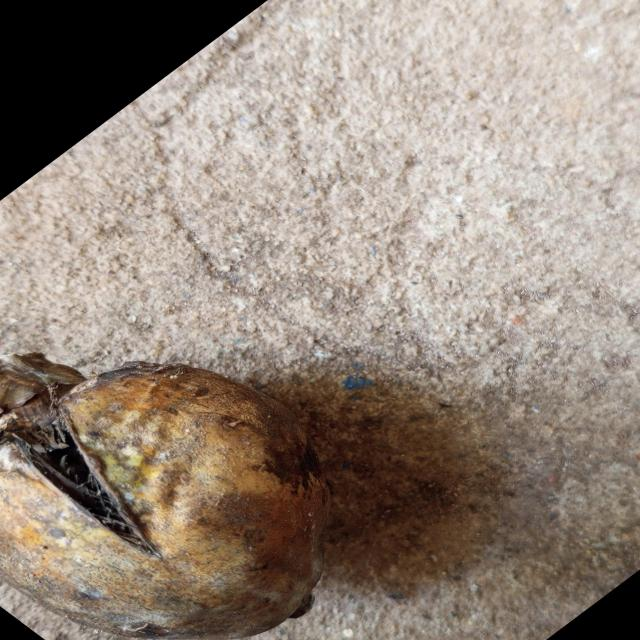damaged: (0, 353, 328, 640)
